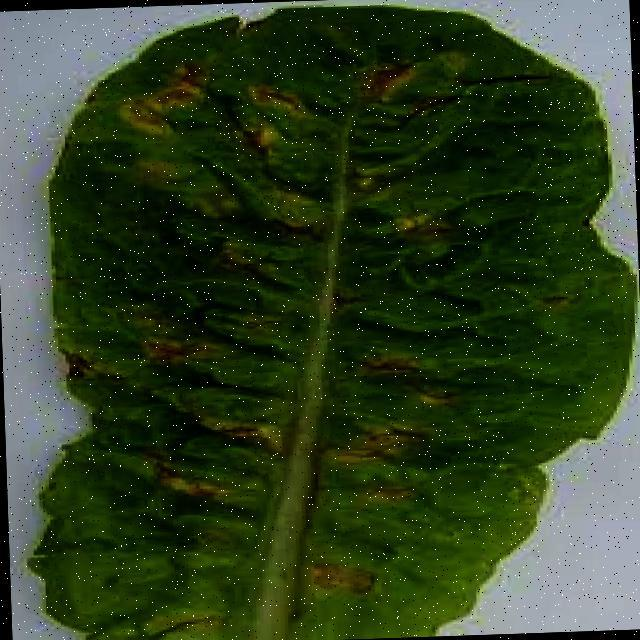Downy_Mildew: (148, 35, 464, 311)
